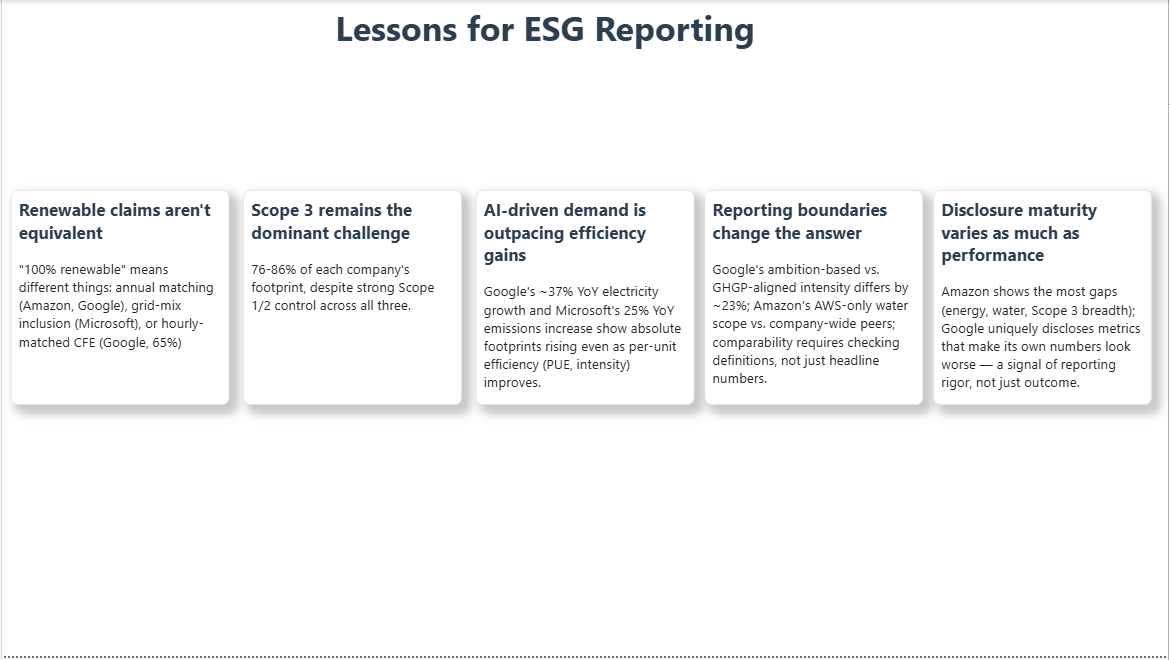

The dashboard page shown, as its layout file describes it:
{"tool":"powerbi","page":{"name":"Lessons for ESG Reporting","canvas":[1280,720],"ordinal":5},"visuals":[{"type":"textbox","box":[361.4,0,557.1,65.7],"z":0},{"type":"textbox","box":[10,208.6,240,235.7],"z":1000},{"type":"textbox","box":[264.3,208.6,240,235.7],"z":2000},{"type":"textbox","box":[520,208.6,240,235.7],"z":3000},{"type":"textbox","box":[771.4,208.6,240,235.7],"z":4000},{"type":"textbox","box":[1022.9,208.6,240,235.7],"z":5000}]}

Visuals, with their boxes in screenshot pixels (x1, y1, x2, y2), scaled from the page's 1280x720 canvas onto the 1170x660 screenshot:
textbox: detection(330, 0, 840, 60)
textbox: detection(9, 191, 229, 407)
textbox: detection(242, 191, 461, 407)
textbox: detection(475, 191, 695, 407)
textbox: detection(705, 191, 924, 407)
textbox: detection(935, 191, 1154, 407)
